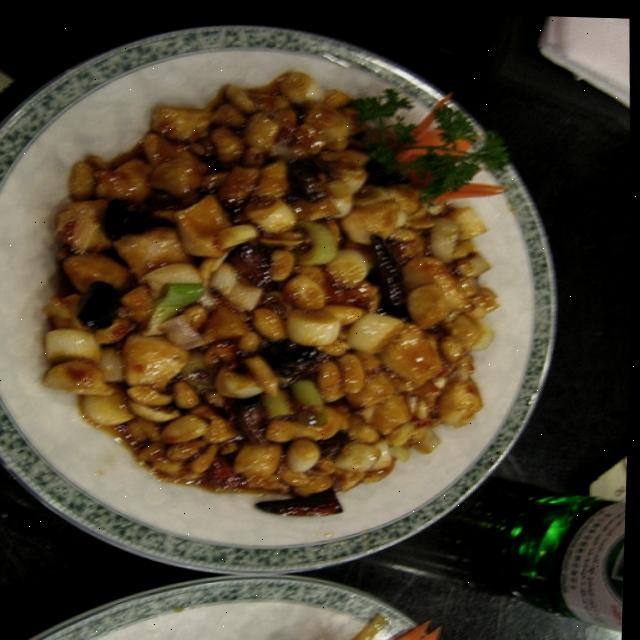鸡肉料理 含炸鸡: (0, 24, 586, 588)
